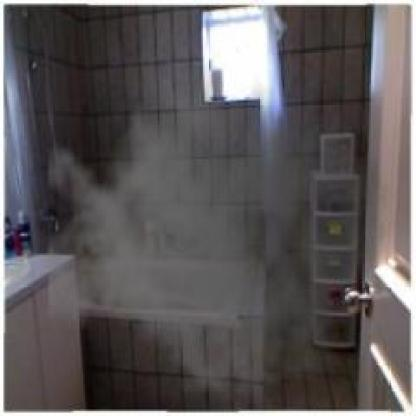Smoke: (49, 45, 388, 414)
